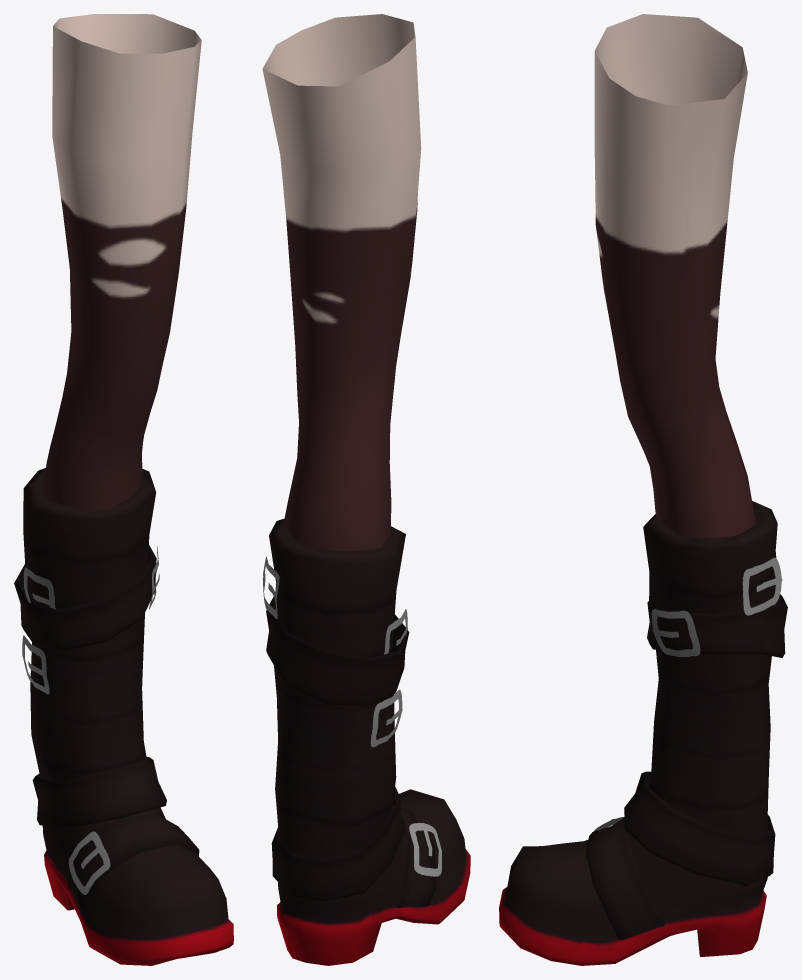
Rendered from RubyPiernaDer.obj.
The picture shows the model from 3 angles, left to right: view 1: azimuth 30°, elevation 25°; view 2: azimuth 150°, elevation 25°; view 3: azimuth 270°, elevation 25°; orthographic projection.
Parts seen in each view (by area): view 1: node_id28.003_Material_0; view 2: node_id28.003_Material_0; view 3: node_id28.003_Material_0.
Part boxes in pixels (x1,y1,x2,y2): node_id28.003_Material_0: [14, 14, 233, 965]; node_id28.003_Material_0: [262, 14, 470, 965]; node_id28.003_Material_0: [499, 14, 787, 965].
Bounding box in the file's own units: 0.0322 × 0.1877 × 0.0545.
